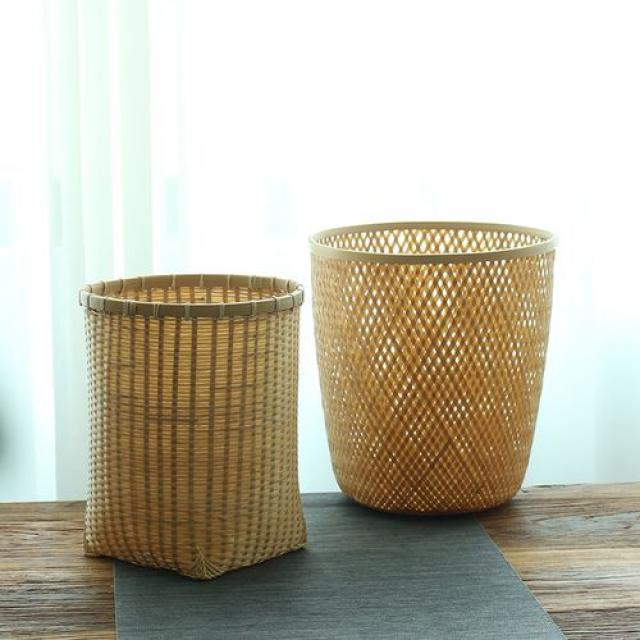Dustbin: (305, 218, 562, 521), (74, 269, 313, 582)
